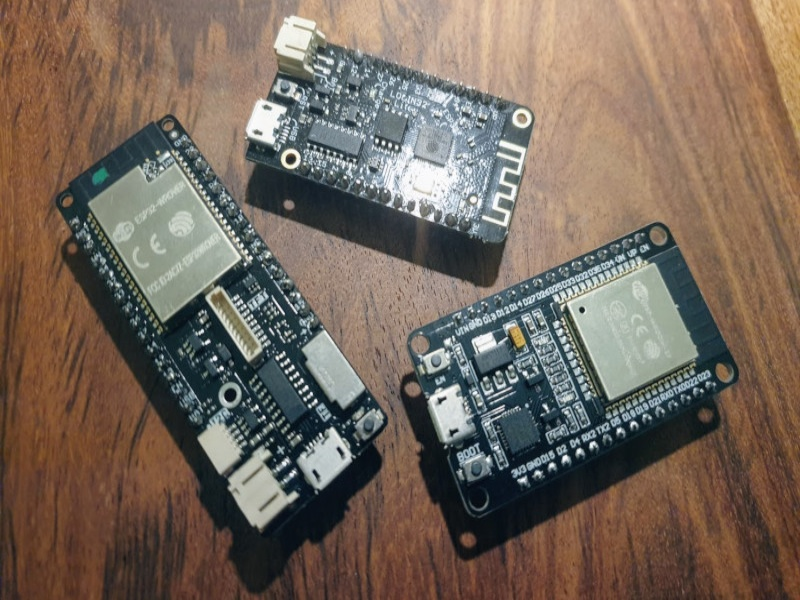esp32: (41, 105, 405, 526), (389, 221, 758, 533), (245, 9, 531, 256)
